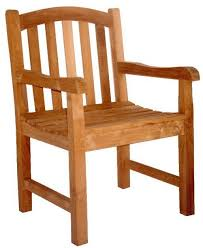tiyarina: (1, 1, 202, 248)
